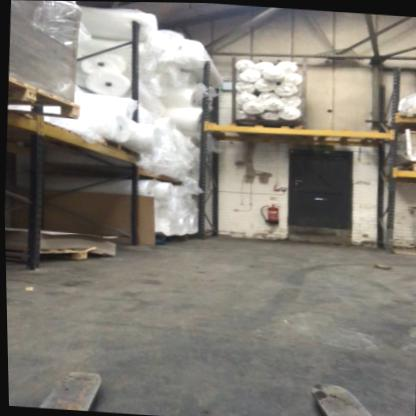vertical_damage: (382, 219, 399, 238)
